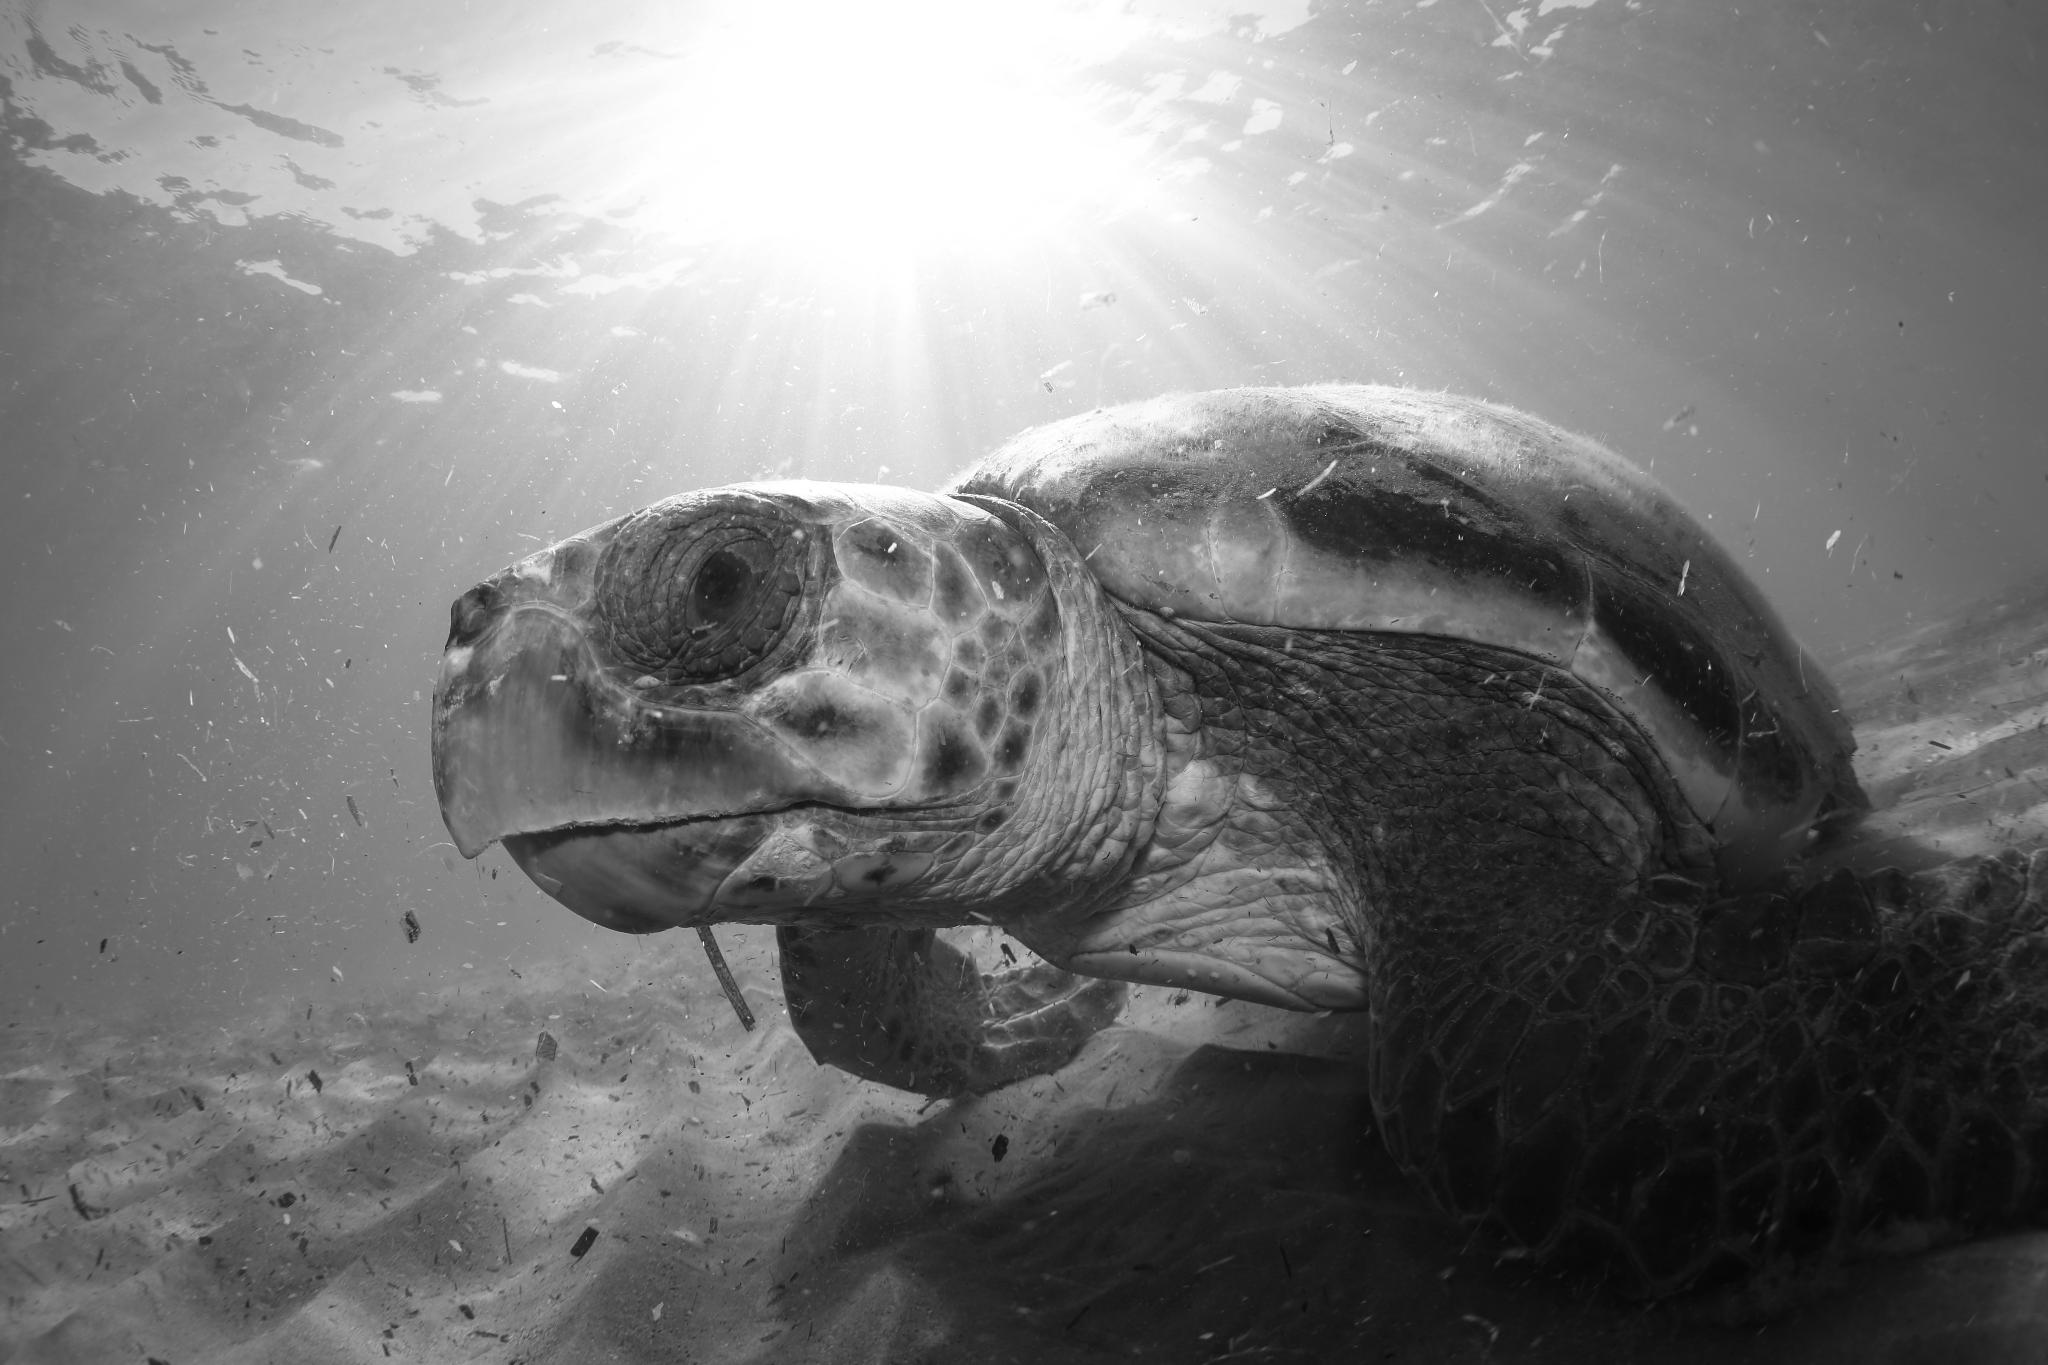Head: (433, 481, 1112, 933)
